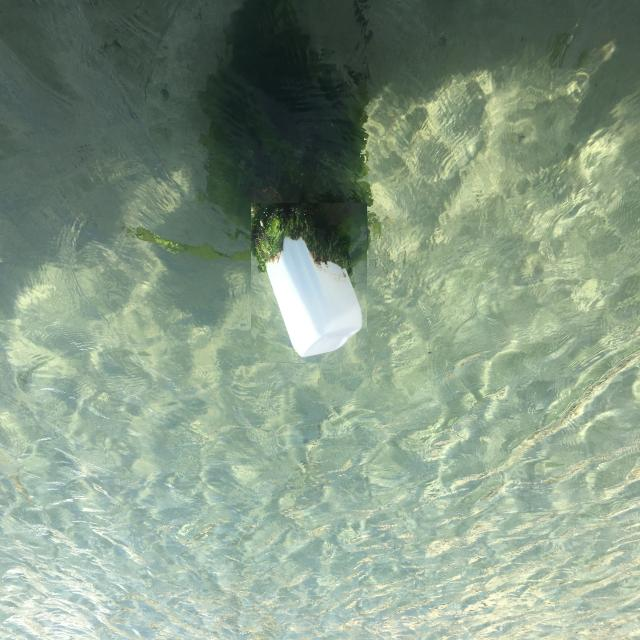Plastic: (251, 202, 367, 362)
